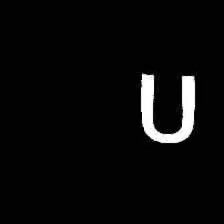LTR_U: (129, 63, 204, 150)
